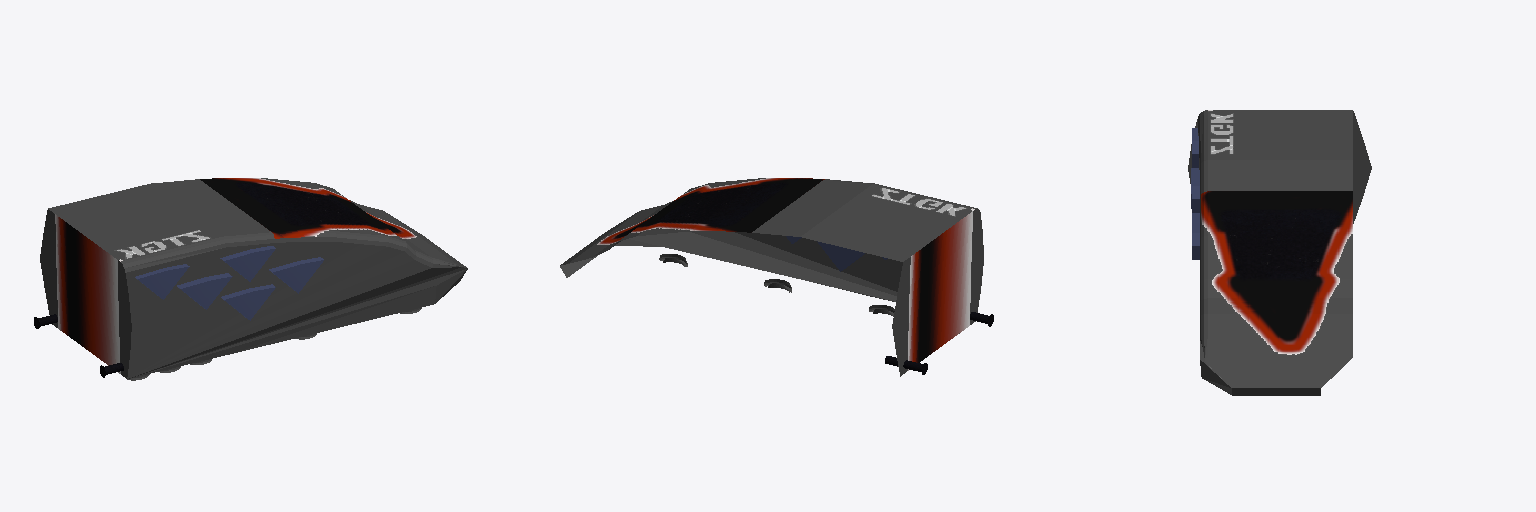
3 views of the same model, side by side, from view 1: azimuth 30°, elevation 25°; view 2: azimuth 150°, elevation 25°; view 3: azimuth 270°, elevation 25° (orthographic).
Parts seen in each view (by area): view 1: Cube; view 2: Cube; view 3: Cube.
Part boxes in pixels (bbox=[...]): Cube: bbox=[34, 178, 467, 380]; Cube: bbox=[560, 178, 993, 376]; Cube: bbox=[1188, 110, 1371, 395].
Bounding box in the file's own units: 20.36 × 6.47 × 8.63.
2 materials, 2 textured.